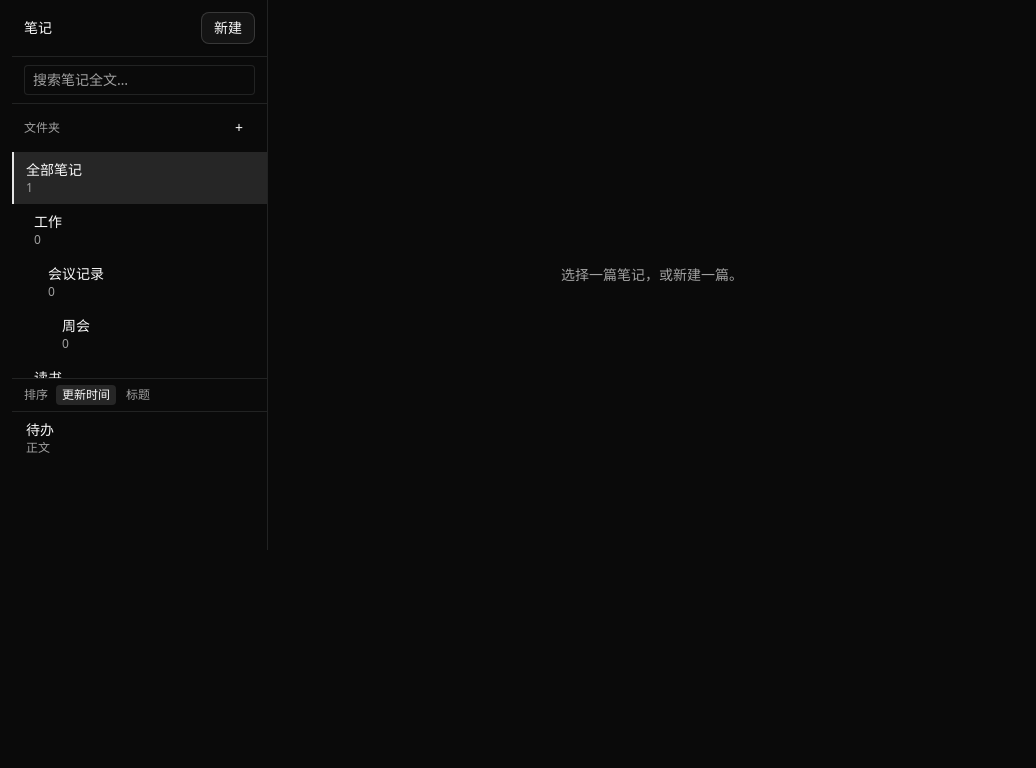
Test case: NotesView › ★ 工具栏按钮的数量、顺序与提示文案与重构前一致
Click the text "待办": [40, 430] box x1=26 y1=420 x2=54 y2=439
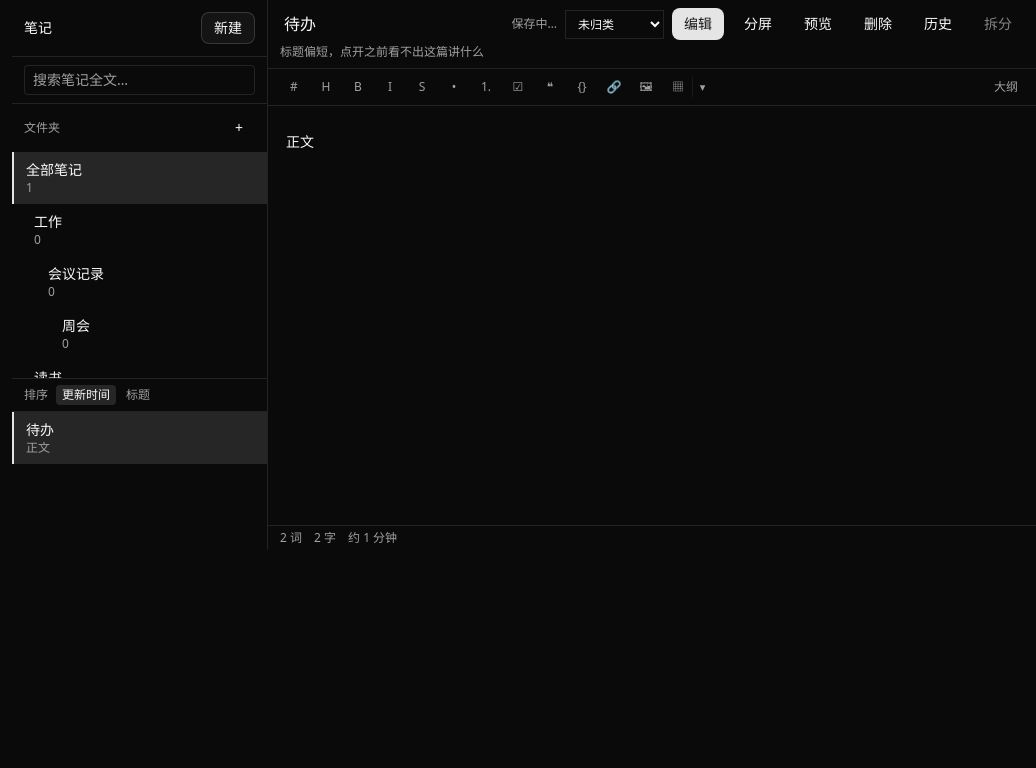
Expected: the element named "笔记正文" is shown, x1=286 y1=132 x2=314 y2=151
Expected: the button named "更多表格操作" is shown, x1=692 y1=77 x2=712 y2=97
